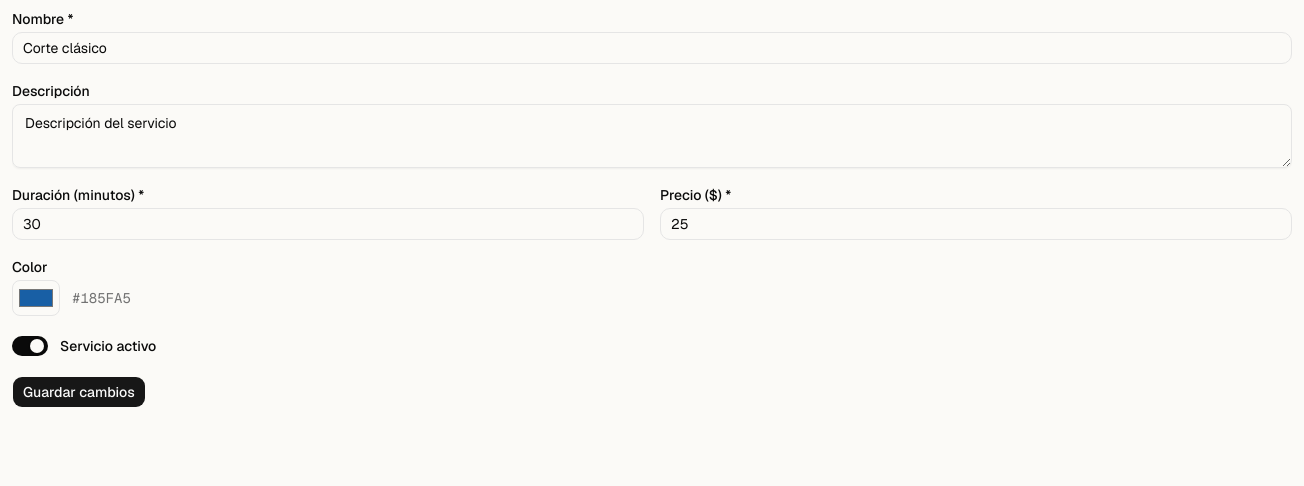
Test: EditServiceForm — error del servidor › muestra error cuando el servidor falla
Replace the text in the field labelled "Nombre *" with "Corte moderno". click: (652, 48)
box: [12,32,1292,64]
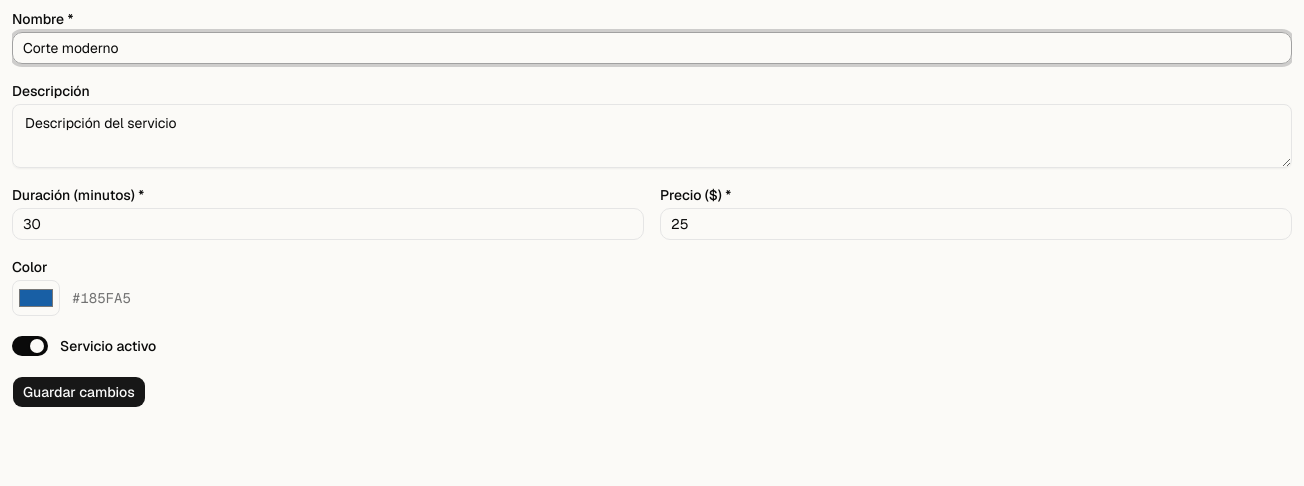
Click the button "Guardar cambios". click: (79, 392)
box: [12,376,146,408]
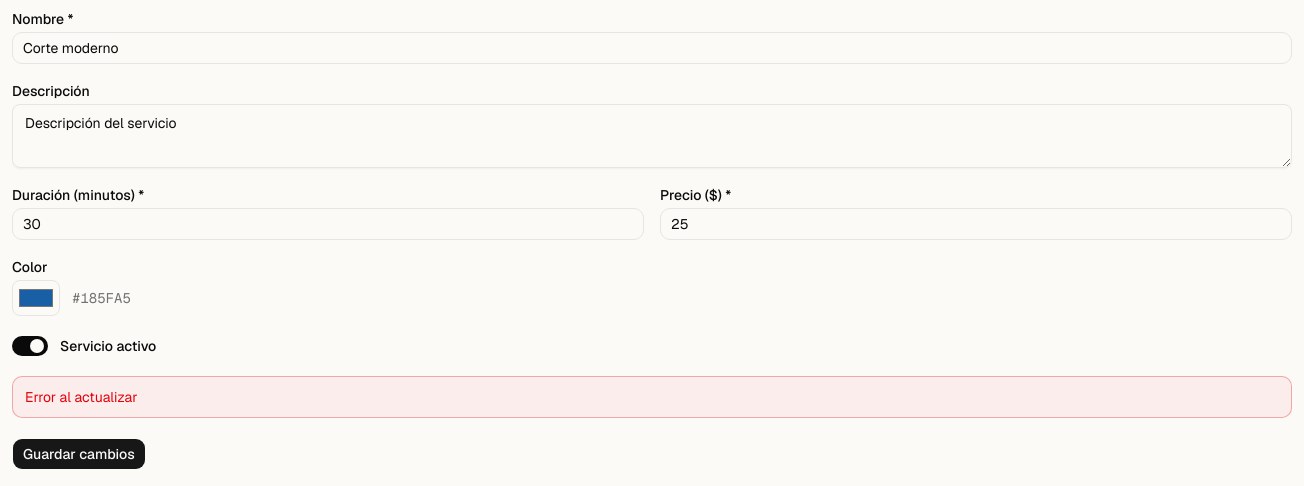
Result: the text "Error al actualizar" is shown at [25,388,138,406]
